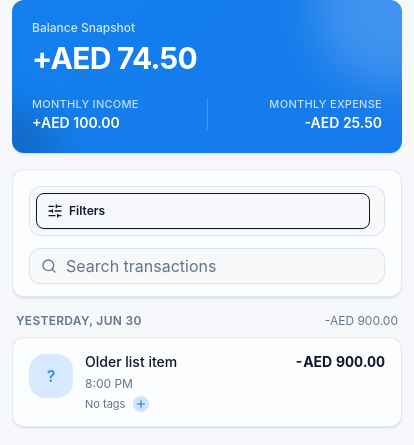
Test: TransactionsPage › refreshes relative day headings on the next interaction after midnight
The image size is (414, 445).
Check: the heading "Yesterday, Jun 30" is shown, box [16, 312, 142, 328]
Step 1. Type "older" into the search field labelled "Search transactions" → point(207, 266), box [29, 248, 385, 284]
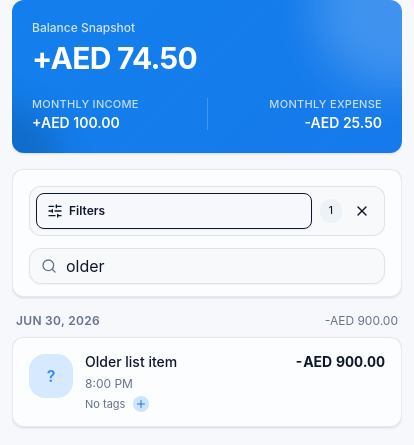
Check: the heading "Jun 30, 2026" is shown, box [16, 312, 100, 328]
Check: the heading "Yesterday" is gone
